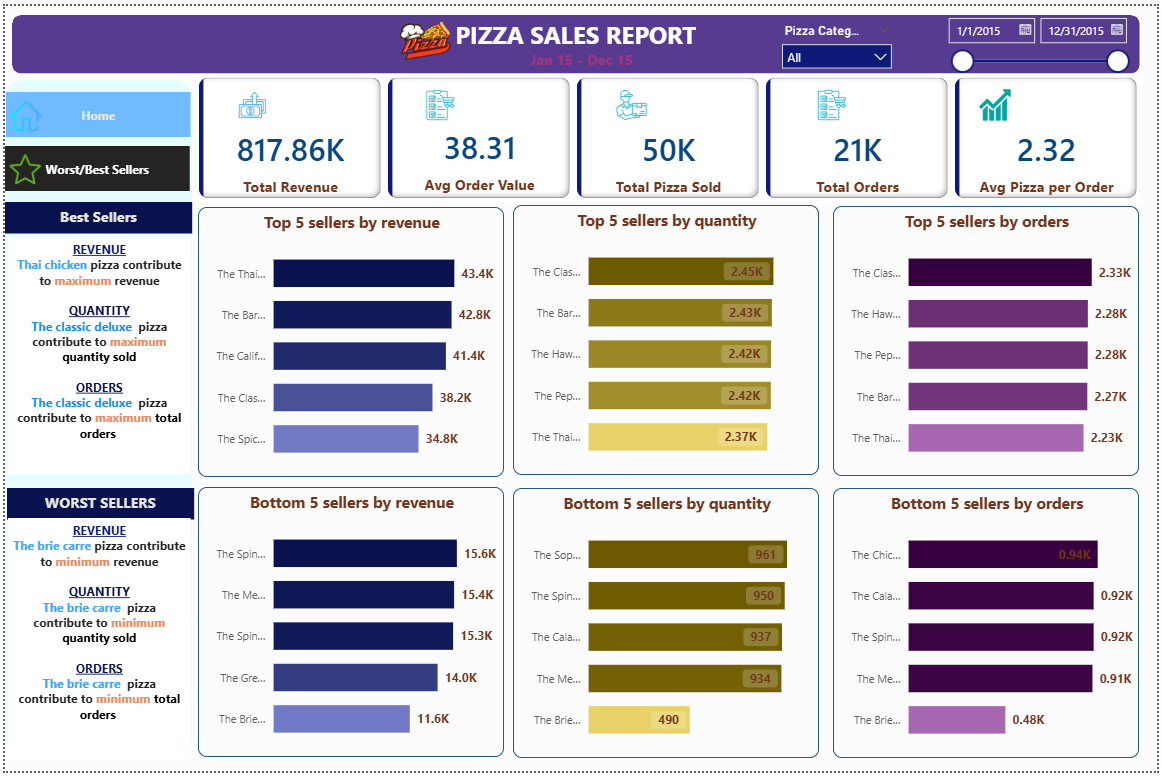

The dashboard page shown, as its layout file describes it:
{"tool":"powerbi","page":{"name":"Worst/Best Sellers","canvas":[1280,850],"ordinal":1},"visuals":[{"type":"cardVisual","fields":{"Data":["pizza_sales.Total Revenue","pizza_sales.Avg Order Value","pizza_sales.Total Pizza Sold","pizza_sales.Total Orders","pizza_sales.Avg Pizza per Order"]},"box":[214,74,1048,144],"z":0},{"type":"shape","box":[8,10,1253,65],"z":1000},{"type":"textbox","box":[568.5,43.3,143.5,30.8],"z":2000},{"type":"image","box":[430.6,0,71.8,74.1],"z":3000},{"type":"shape","box":[0,82.2,207.8,752.2],"z":4000},{"type":"textbox","box":[0,217.5,207.5,35],"z":5000},{"type":"textbox","box":[3,257,203,264],"z":6000},{"type":"textbox","box":[2.5,535,207.5,35],"z":7000},{"type":"textbox","box":[3,569,203,268],"z":8000},{"type":"slicer","fields":{"Values":["pizza_sales.pizza_category"]},"box":[853,14,142,55],"z":9000},{"type":"slicer","fields":{"Values":["pizza_sales.order_date"]},"box":[1036,3,222,74],"z":10000},{"type":"clusteredBarChart","title":"Top 5 sellers by revenue","fields":{"Category":["pizza_sales.pizza_name"],"Y":["pizza_sales.Total Revenue"]},"box":[214,223,340,300],"z":12000},{"type":"clusteredBarChart","title":"Bottom 5 sellers by revenue","fields":{"Category":["pizza_sales.pizza_name"],"Y":["pizza_sales.Total Revenue"]},"box":[214,534,340,300],"z":13000},{"type":"clusteredBarChart","title":"Top 5 sellers by quantity","fields":{"Category":["pizza_sales.pizza_name"],"Y":["Sum(pizza_sales.quantity)"]},"box":[564,221,340,300],"z":14000},{"type":"clusteredBarChart","title":"Top 5 sellers by orders","fields":{"Category":["pizza_sales.pizza_name"],"Y":["pizza_sales.Total Orders"]},"box":[920,222,340,300],"z":15000},{"type":"clusteredBarChart","title":"Bottom 5 sellers by quantity","fields":{"Category":["pizza_sales.pizza_name"],"Y":["Sum(pizza_sales.quantity)"]},"box":[564,535,340,300],"z":16000},{"type":"clusteredBarChart","title":"Bottom 5 sellers by orders","fields":{"Category":["pizza_sales.pizza_name"],"Y":["pizza_sales.Total Orders"]},"box":[920,535,340,300],"z":17000},{"type":"pageNavigator","box":[1.3,96,205.3,50],"z":18000},{"type":"pageNavigator","box":[0,156,205,50],"z":19000},{"type":"image","box":[1.3,100,45,45],"z":20000},{"type":"image","box":[0,159.3,45.3,45.3],"z":21000}]}

Visuals, with their boxes in screenshot pixels (x1, y1, x2, y2), scaled from the page's 1280x850 canvas onto the 1162x776 screenshot:
cardVisual - pizza_sales.Total Revenue x pizza_sales.Avg Order Value: [left=194, top=68, right=1146, bottom=199]
shape: [left=7, top=9, right=1145, bottom=68]
textbox: [left=516, top=40, right=646, bottom=68]
image: [left=391, top=0, right=456, bottom=68]
shape: [left=0, top=75, right=189, bottom=762]
textbox: [left=0, top=199, right=188, bottom=231]
textbox: [left=3, top=235, right=187, bottom=476]
textbox: [left=2, top=488, right=191, bottom=520]
textbox: [left=3, top=519, right=187, bottom=764]
slicer - pizza_sales.pizza_category: [left=774, top=13, right=903, bottom=63]
slicer - pizza_sales.order_date: [left=940, top=3, right=1142, bottom=70]
"Top 5 sellers by revenue" clusteredBarChart: [left=194, top=204, right=503, bottom=477]
"Bottom 5 sellers by revenue" clusteredBarChart: [left=194, top=488, right=503, bottom=761]
"Top 5 sellers by quantity" clusteredBarChart: [left=512, top=202, right=821, bottom=476]
"Top 5 sellers by orders" clusteredBarChart: [left=835, top=203, right=1144, bottom=477]
"Bottom 5 sellers by quantity" clusteredBarChart: [left=512, top=488, right=821, bottom=762]
"Bottom 5 sellers by orders" clusteredBarChart: [left=835, top=488, right=1144, bottom=762]
pageNavigator: [left=1, top=88, right=188, bottom=133]
pageNavigator: [left=0, top=142, right=186, bottom=188]
image: [left=1, top=91, right=42, bottom=132]
image: [left=0, top=145, right=41, bottom=187]
